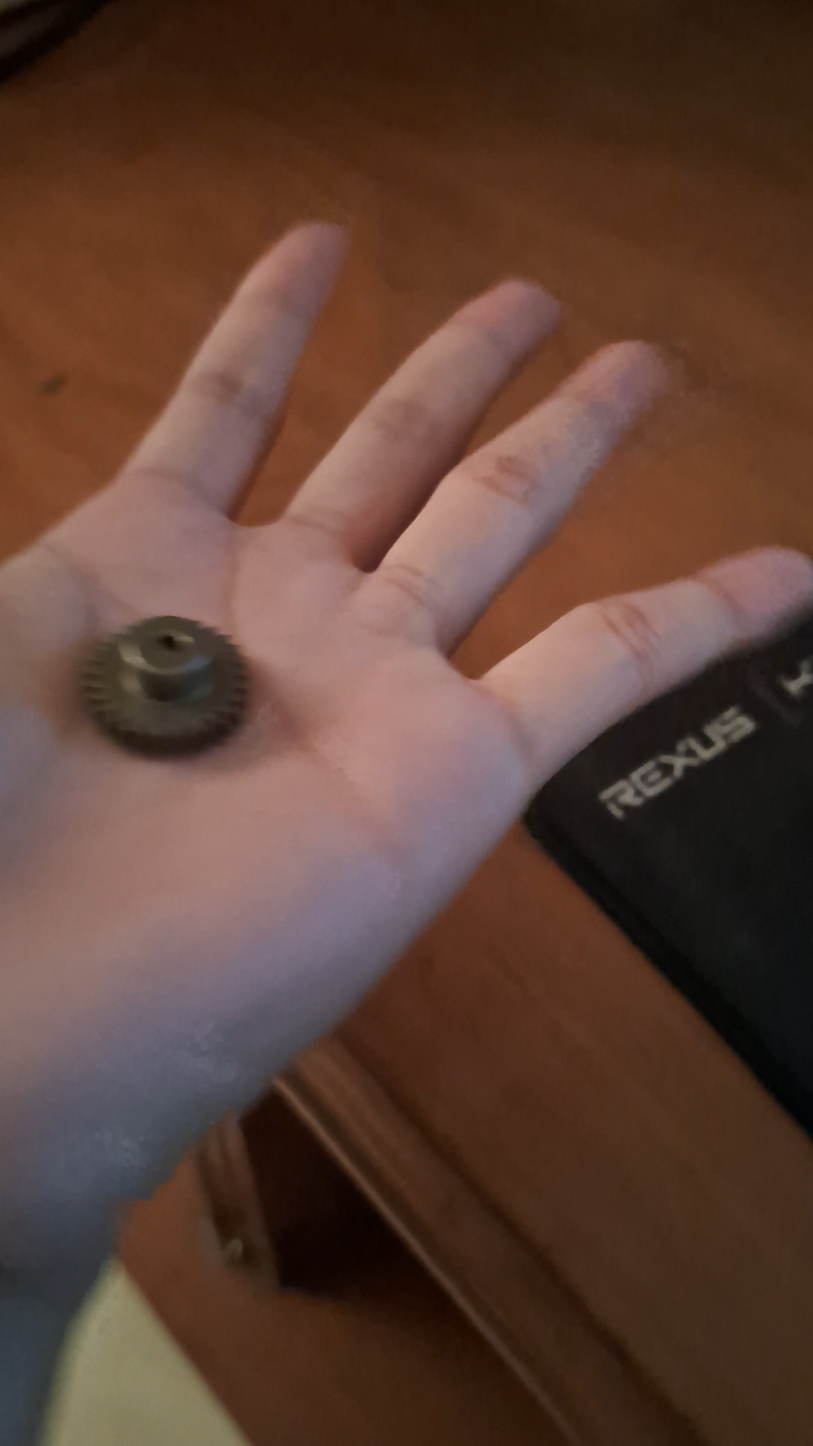spur gear: (82, 616, 247, 756)
